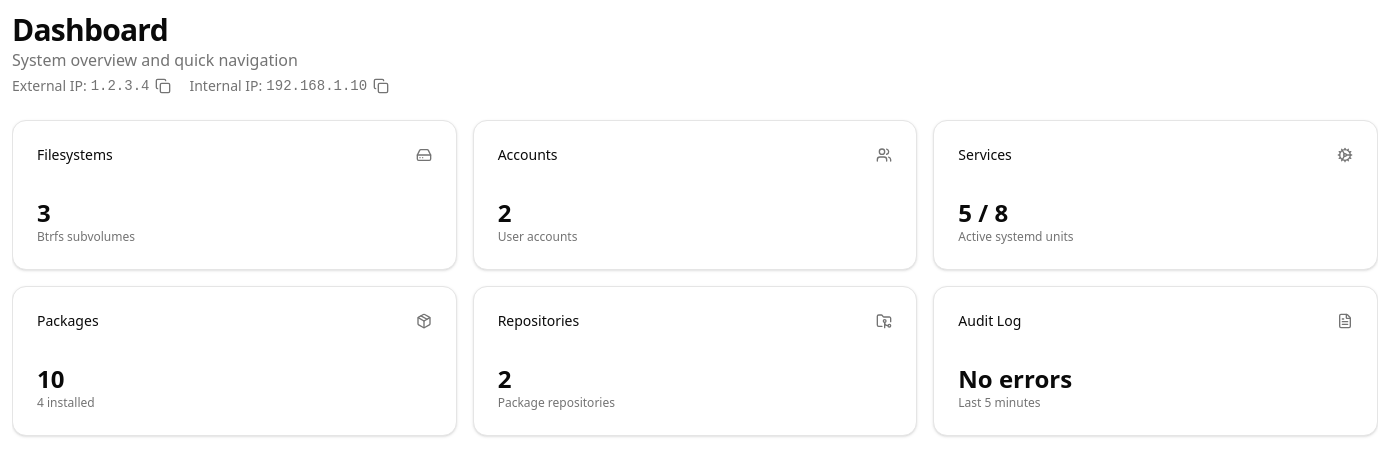
Test case: DashboardHome › copies external IP to clipboard via fallback when not in secure context
Expected: the text "1.2.3.4" is shown, x1=91 y1=76 x2=150 y2=96
Click the button named "Copy to clipboard" next to "1.2.3.4" at (164, 86), box x1=154 y1=76 x2=174 y2=96
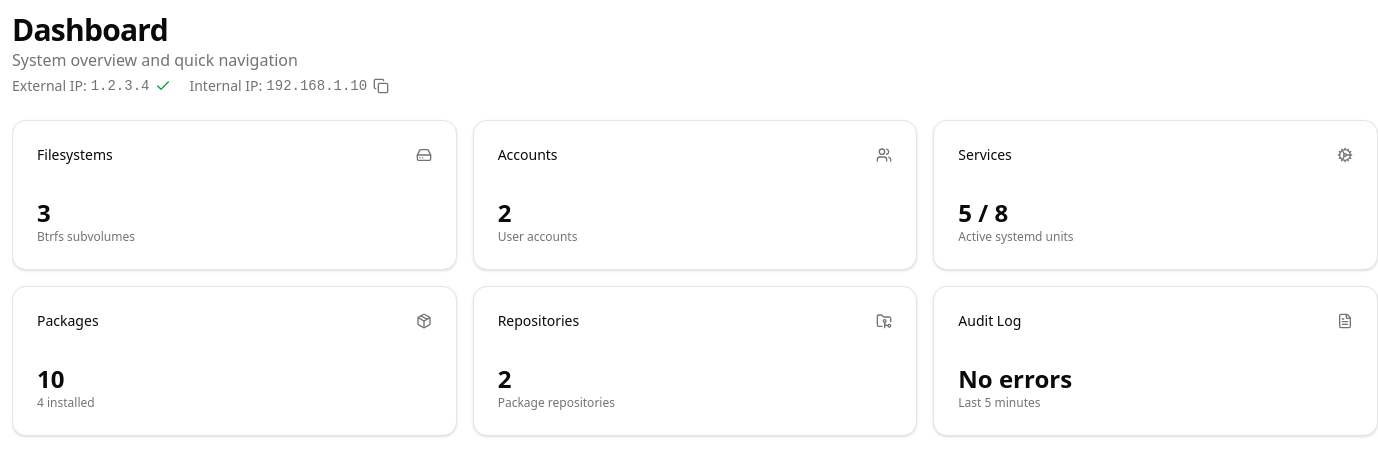
Expected: the button named "Copied" is shown, x1=154 y1=76 x2=174 y2=96
